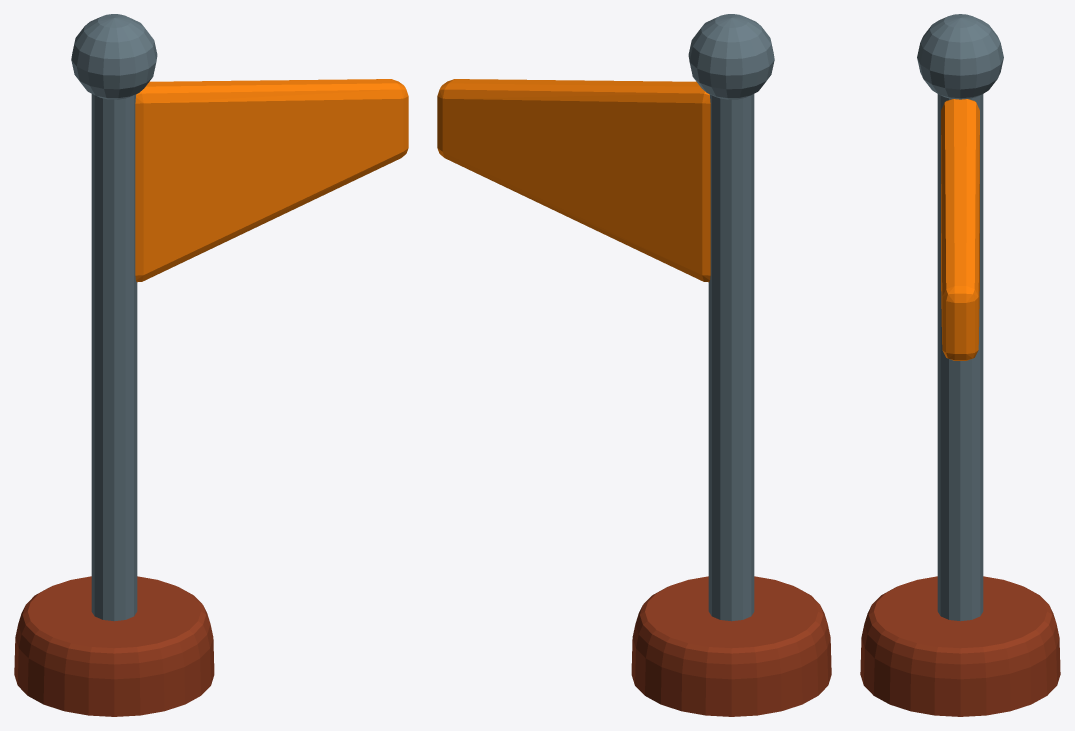
Rendered from flag_teamYellow.obj.
3 renders of one model, left to right at view 1: azimuth 30°, elevation 25°; view 2: azimuth 150°, elevation 25°; view 3: azimuth 270°, elevation 25°, orthographic.
Visible parts, largest first — view 1: flag_teamYellow_Cube.088; view 2: flag_teamYellow_Cube.088; view 3: flag_teamYellow_Cube.088.
Part boxes in pixels (x1,y1,x2,y2): flag_teamYellow_Cube.088: (14,14,408,716); flag_teamYellow_Cube.088: (437,14,831,716); flag_teamYellow_Cube.088: (860,14,1060,716).
Size of the model in its own units: 1.2 by 2 by 0.5524.
